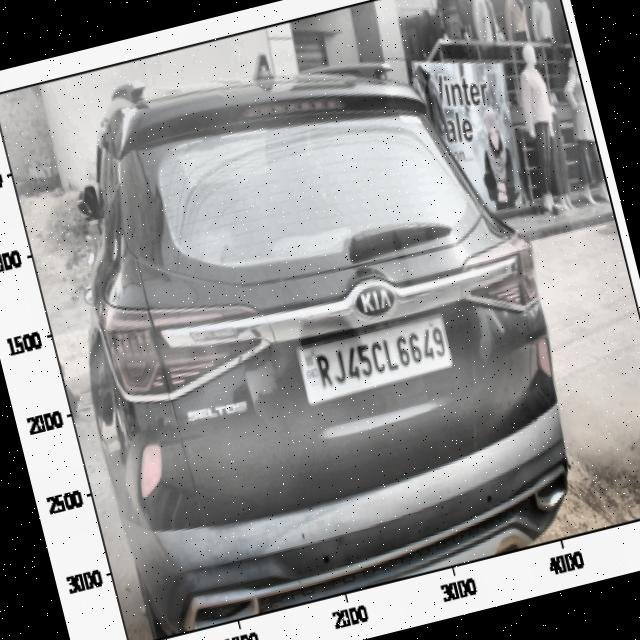license_plate: (302, 314, 456, 404)
